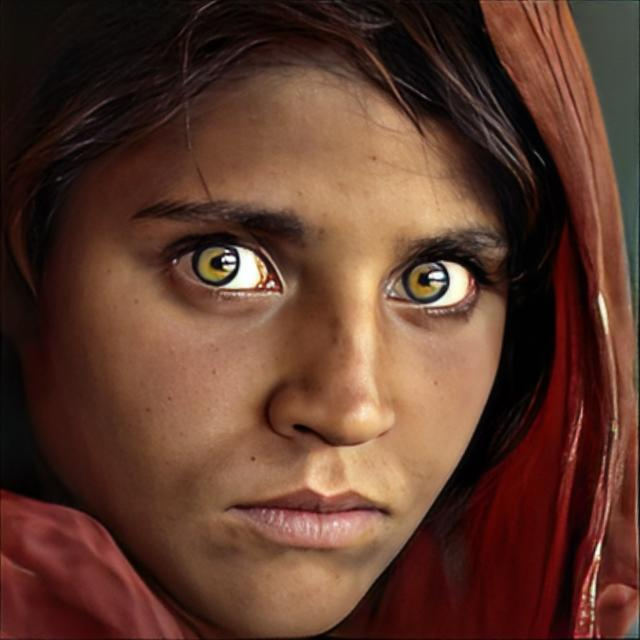fear: (72, 45, 507, 611)
